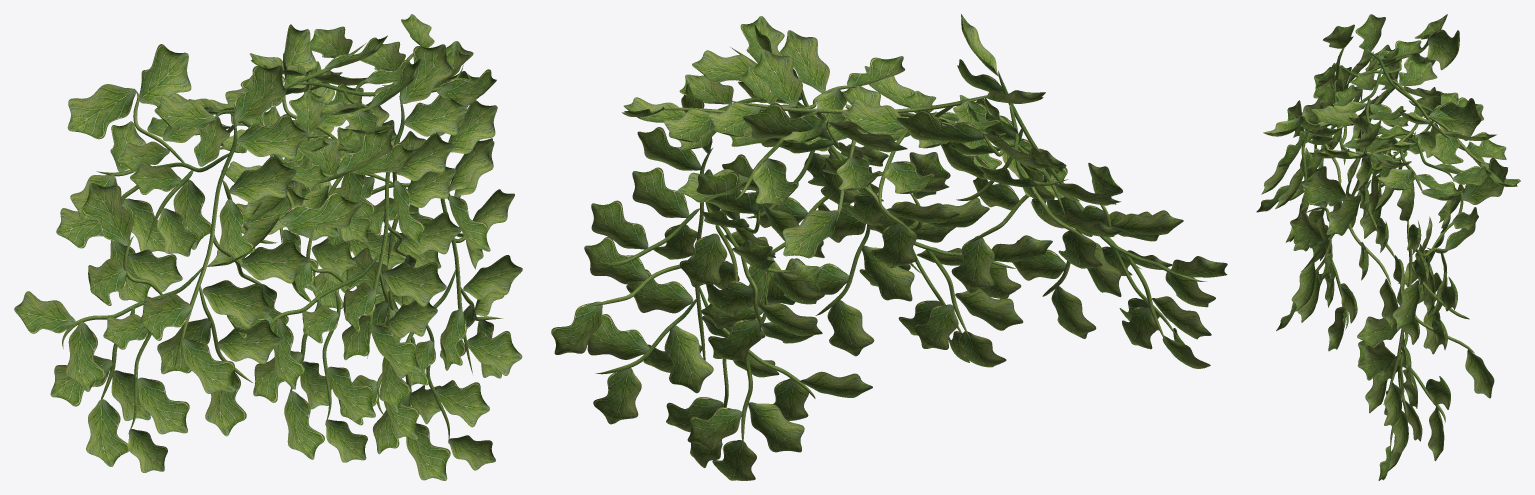
File: green_creeper_plant.glb
3 views of the same model, side by side, from view 1: azimuth 30°, elevation 25°; view 2: azimuth 150°, elevation 25°; view 3: azimuth 270°, elevation 25° (orthographic). The views are drawn at different scales.
Visible parts, largest first — view 1: Object_3, Object_8, Object_10; view 2: Object_3, Object_8, Object_10; view 3: Object_3, Object_8, Object_10.
Part boxes in pixels (x1=…): Object_3: x1=14, y1=14, x2=522, y2=480; Object_8: x1=62, y1=42, x2=503, y2=417; Object_10: x1=96, y1=53, x2=460, y2=443; Object_3: x1=551, y1=14, x2=1227, y2=480; Object_8: x1=590, y1=47, x2=1206, y2=449; Object_10: x1=599, y1=85, x2=1178, y2=448; Object_3: x1=1256, y1=14, x2=1520, y2=480; Object_8: x1=1296, y1=31, x2=1508, y2=423; Object_10: x1=1289, y1=60, x2=1469, y2=449.
Bounding box in the file's own units: 15800 × 12909 × 8284.
3 materials, 3 textured.
